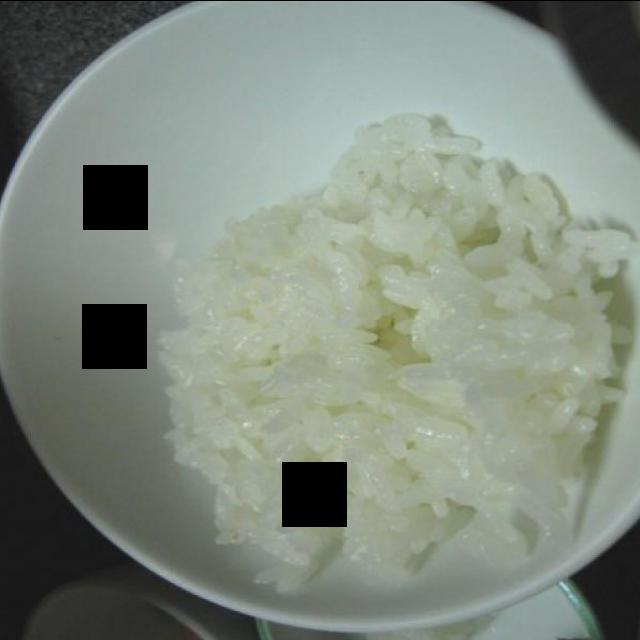rice: (157, 112, 640, 594)
